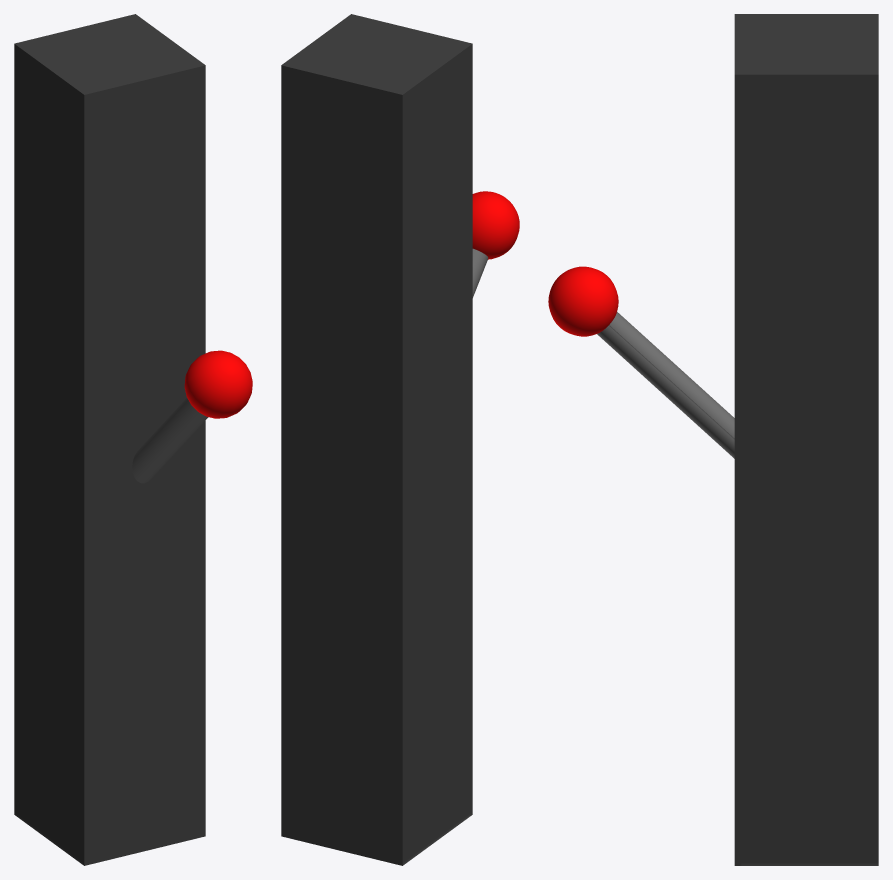
Rendered from LeverU.fbx.
The picture shows the model from 3 angles, left to right: view 1: azimuth 30°, elevation 25°; view 2: azimuth 150°, elevation 25°; view 3: azimuth 270°, elevation 25°; orthographic projection. The views are drawn at different scales.
Visible parts, largest first — view 1: Piller, LeverSphere, LeverCylinder; view 2: Piller, LeverSphere, LeverCylinder; view 3: Piller, LeverCylinder, LeverSphere.
Part boxes in pixels (x1,y1,x2,y2): Piller: [14, 14, 205, 865]; LeverSphere: [184, 350, 252, 418]; LeverCylinder: [132, 398, 208, 483]; Piller: [281, 14, 472, 865]; LeverSphere: [472, 191, 519, 259]; LeverCylinder: [472, 248, 488, 297]; Piller: [734, 14, 878, 865]; LeverCylinder: [597, 312, 734, 458]; LeverSphere: [548, 266, 618, 336].
Bounding box in the file's own units: 0.3745 × 2.27 × 0.8593.
Materials: 1 (1 with a texture image).
